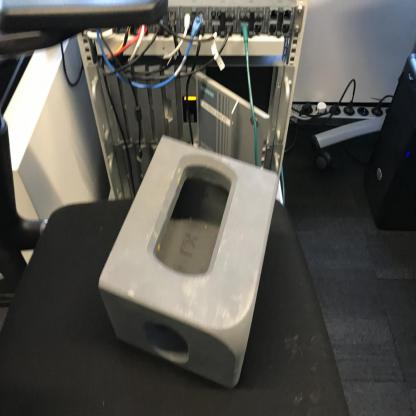CornerCasting: (96, 131, 280, 393)
